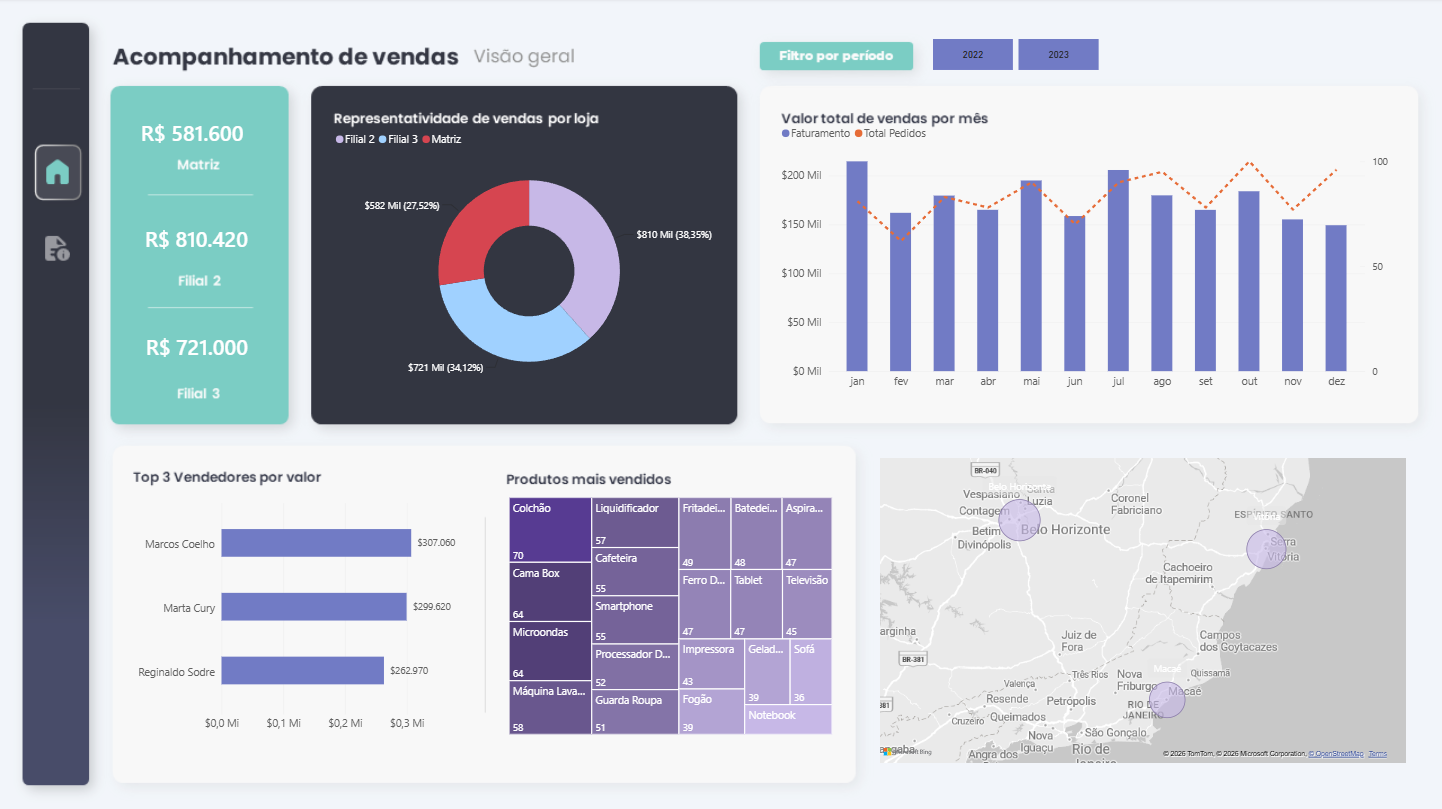

The page's visual inventory and layout, read from the dashboard file:
{"tool":"powerbi","page":{"name":"Dashboard","canvas":[1920,1080],"ordinal":0},"visuals":[{"type":"advancedSlicerVisual","title":"Ano","fields":{"Values":["dCalendario.Ano"]},"box":[1240.9,54.5,221.7,41.7],"z":1},{"type":"lineClusteredColumnComboChart","title":"Faturamento e Total Pedidos por Periodo","fields":{"Category":["dCalendario.nomeMes"],"Y":["Medidas.faturamento"],"Y2":["Medidas.qtde_pedidos"]},"box":[1022.9,150,841.4,390],"z":2},{"type":"donutChart","title":"Faturamento por Loja","fields":{"Category":["dLoja.TipoLoja"],"Y":["Medidas.faturamento"]},"box":[430,158.3,548.3,381.7],"z":3},{"type":"clusteredBarChart","title":"Top 3 Vendedores por Faturamento","fields":{"Category":["dVendedor.NomeVendedor"],"Y":["Medidas.faturamento"]},"box":[160,650,485,345],"z":4},{"type":"treemap","fields":{"Group":["dProdutos.DescricaoProduto"],"Values":["Medidas.qtde_pedidos"]},"box":[661.7,650,461.7,345],"z":5},{"type":"map","fields":{"Category":["dLoja.Cidade"],"Size":["Medidas.faturamento"]},"box":[1154.3,597.1,731.4,435.7],"z":6},{"type":"card","fields":{"Values":["Medidas.Fat_Matriz"]},"box":[160,133.3,191.7,96.7],"z":7},{"type":"card","fields":{"Values":["Medidas.Fat_Filial2"]},"box":[160,266.7,203.3,110],"z":8},{"type":"card","fields":{"Values":["Medidas.Fat_Filial3"]},"box":[111.4,390,300,150],"z":9},{"type":"actionButton","box":[39.3,288.8,72.6,75.6],"z":10}]}

Visuals, with their boxes on the page's 1920x1080 design canvas (x1, y1, x2, y2). These are canvas units, not pixel positions in the 1442x809 screenshot, which may show the page scaled, cropped or inside an application window:
"Ano" advancedSlicerVisual: <region>1241, 54, 1463, 96</region>
"Faturamento e Total Pedidos por Periodo" lineClusteredColumnComboChart: <region>1023, 150, 1864, 540</region>
"Faturamento por Loja" donutChart: <region>430, 158, 978, 540</region>
"Top 3 Vendedores por Faturamento" clusteredBarChart: <region>160, 650, 645, 995</region>
treemap - dProdutos.DescricaoProduto x Medidas.qtde_pedidos: <region>662, 650, 1123, 995</region>
map - dLoja.Cidade x Medidas.faturamento: <region>1154, 597, 1886, 1033</region>
card - Medidas.Fat_Matriz: <region>160, 133, 352, 230</region>
card - Medidas.Fat_Filial2: <region>160, 267, 363, 377</region>
card - Medidas.Fat_Filial3: <region>111, 390, 411, 540</region>
actionButton: <region>39, 289, 112, 364</region>
